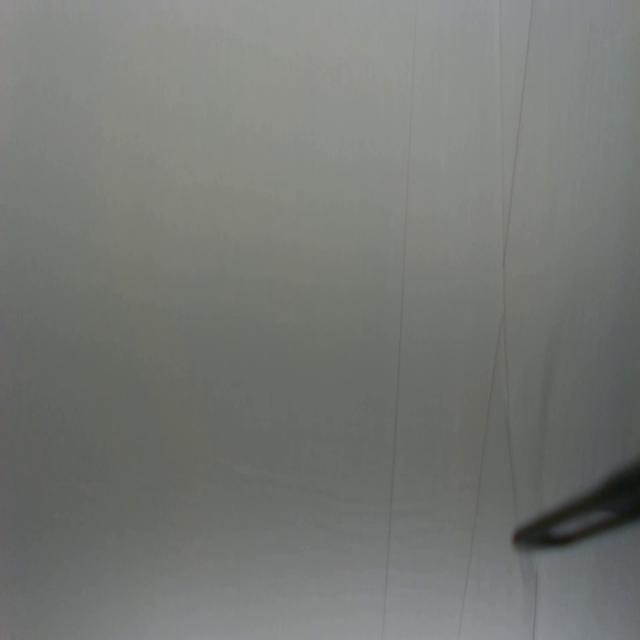crease: (379, 0, 420, 637), (458, 312, 505, 639), (502, 0, 536, 267), (532, 562, 541, 640)
